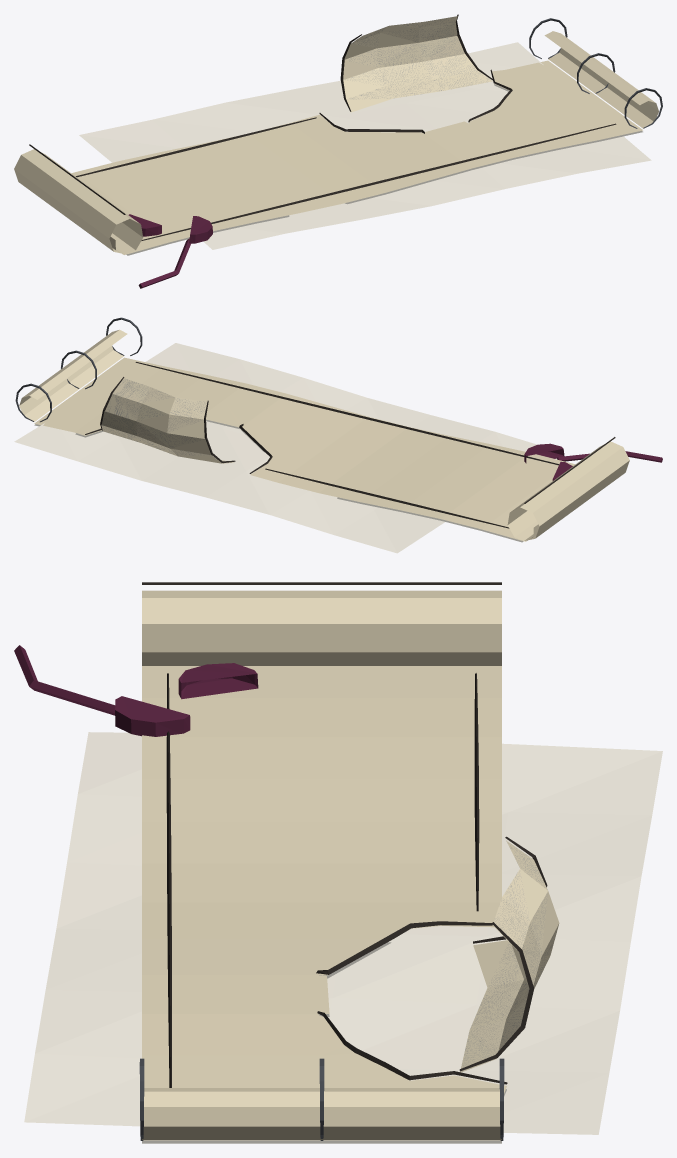
File: DecreeOpen.fbx
3 renders of one model, top to bottom at view 1: azimuth 30°, elevation 25°; view 2: azimuth 150°, elevation 25°; view 3: azimuth 270°, elevation 25°, orthographic. The views are drawn at different scales.
Visible parts, largest first — view 1: Face, HumanText, Band, Lines, Seal; view 2: Face, HumanText, Band, Lines, Seal; view 3: Face, HumanText, Band, Lines, Seal.
Boxes of the visible parts, x1,y1,x2,y2 form: Face: [72, 60, 642, 253]; HumanText: [79, 42, 651, 249]; Band: [14, 16, 658, 255]; Lines: [29, 14, 662, 240]; Seal: [128, 214, 212, 288]; Face: [34, 357, 575, 540]; HumanText: [14, 343, 536, 553]; Band: [19, 329, 629, 542]; Lines: [15, 317, 615, 528]; Seal: [524, 443, 662, 480]; Face: [142, 666, 506, 1140]; HumanText: [24, 732, 662, 1134]; Band: [142, 590, 559, 1143]; Lines: [139, 582, 547, 1140]; Seal: [14, 645, 258, 736].
Size of the model in its own units: 0.8393 by 0.1082 by 0.4508.
